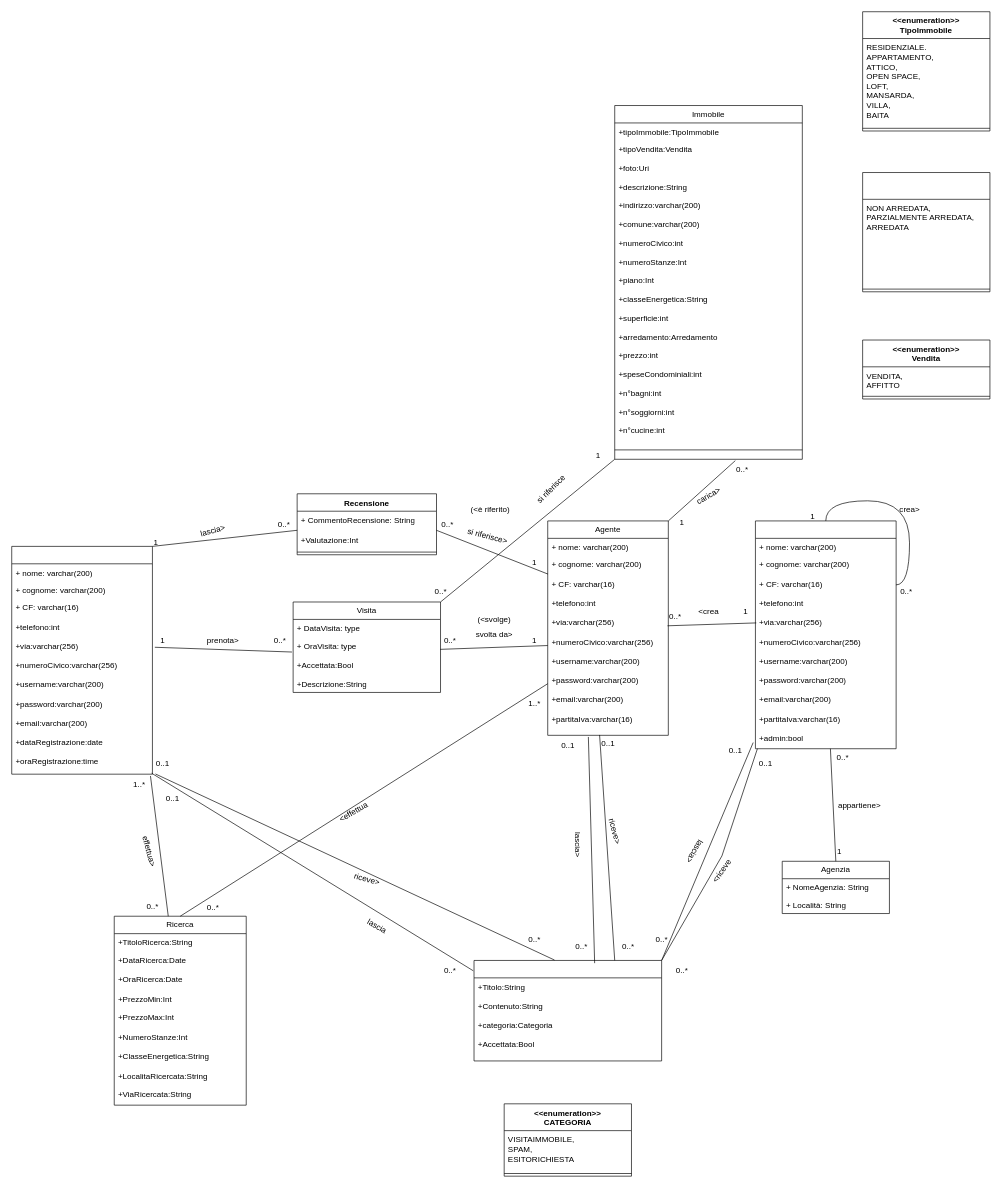
Image size: 1002x1188. Some labels were removed from this diagram. The box of each missing label's shape, as (x1, y1, x2, y2) in pixels:
<<enumeration>> Arredamento: (862, 172, 990, 292)
Cliente: (11, 546, 152, 774)
Gestore Agenzia Immobiliare: (755, 520, 896, 749)
Notifica: (473, 960, 662, 1061)
